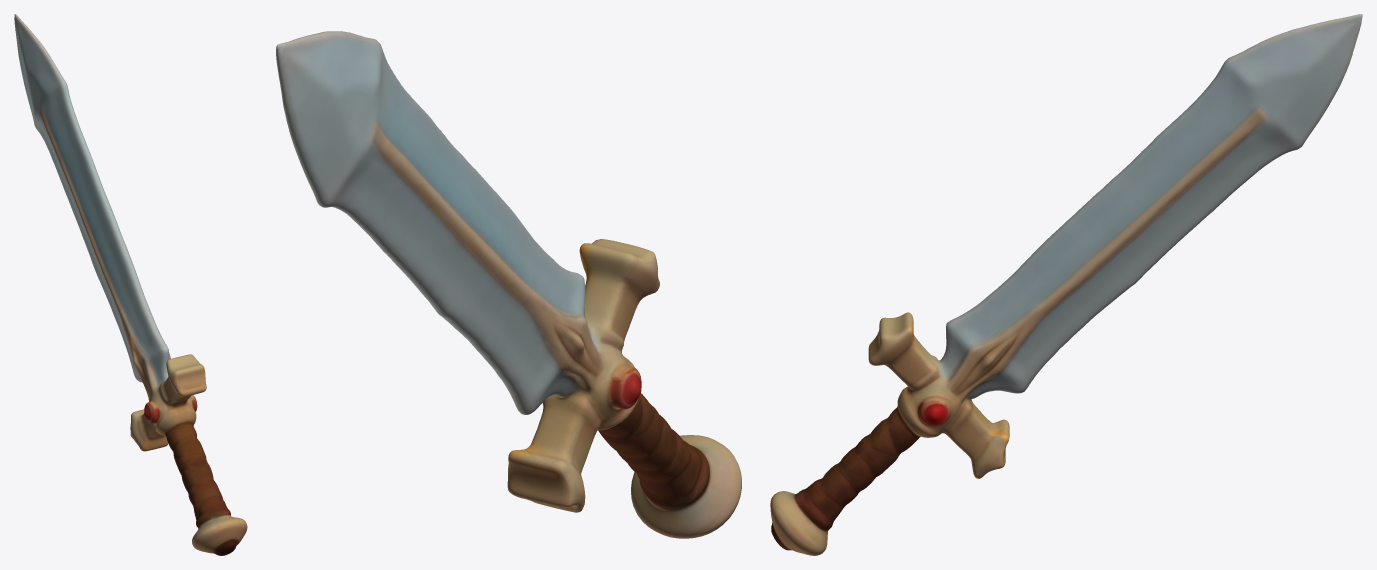
Rendered from sword.obj.
3 renders of one model, left to right at view 1: azimuth 30°, elevation 25°; view 2: azimuth 150°, elevation 25°; view 3: azimuth 270°, elevation 25°, orthographic. The views are drawn at different scales.
Parts seen in each view (by area): view 1: tripo_node_f983b659-6517-425a-9d60-c952c3a31ad2; view 2: tripo_node_f983b659-6517-425a-9d60-c952c3a31ad2; view 3: tripo_node_f983b659-6517-425a-9d60-c952c3a31ad2.
Boxes of the visible parts, left/top/right/bottom form: tripo_node_f983b659-6517-425a-9d60-c952c3a31ad2: left=14, top=14, right=247, bottom=555; tripo_node_f983b659-6517-425a-9d60-c952c3a31ad2: left=276, top=31, right=741, bottom=538; tripo_node_f983b659-6517-425a-9d60-c952c3a31ad2: left=770, top=14, right=1362, bottom=555.
Bounding box in the file's own units: 0.1304 × 0.9418 × 0.9422.
